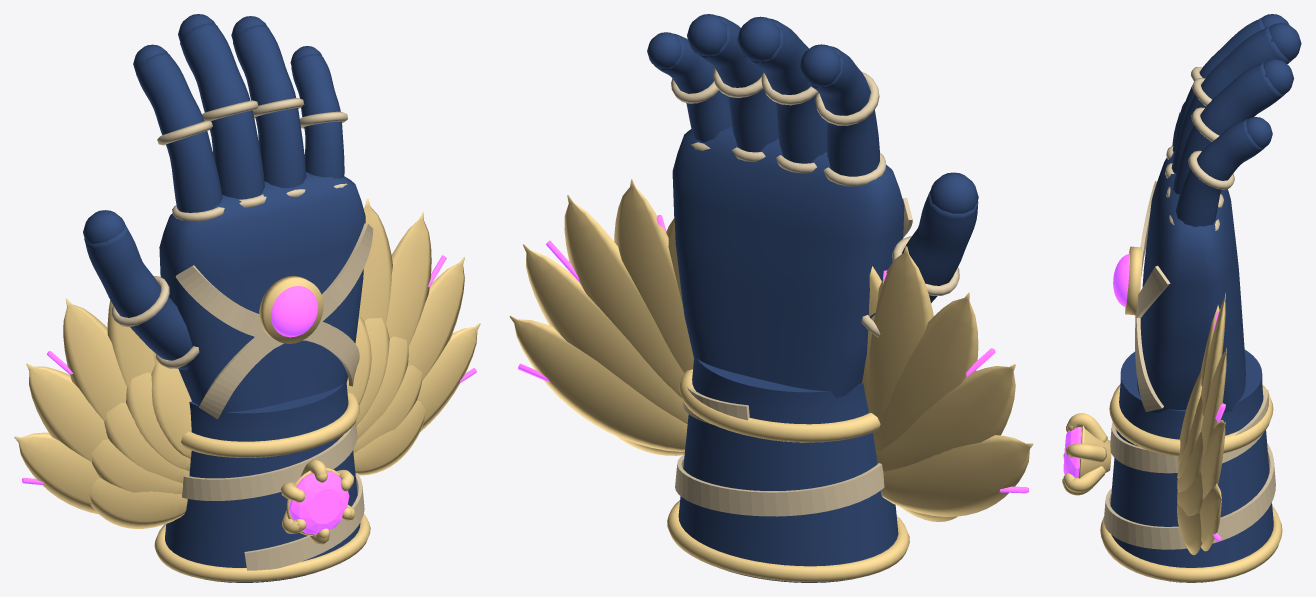
Rendered from gloves_haste_epic.glb.
3 views of the same model, side by side, from view 1: azimuth 30°, elevation 25°; view 2: azimuth 150°, elevation 25°; view 3: azimuth 270°, elevation 25° (orthographic). The views are drawn at different scales.
Parts seen in each view (by area): view 1: gloves_haste_epic; view 2: gloves_haste_epic; view 3: gloves_haste_epic.
Boxes of the visible parts, x1=… form: gloves_haste_epic: x1=14, y1=14, x2=480, y2=582; gloves_haste_epic: x1=509, y1=14, x2=1033, y2=582; gloves_haste_epic: x1=1062, y1=14, x2=1301, y2=582.
Size of the model in its own units: 2.38 by 2.45 by 1.05.
